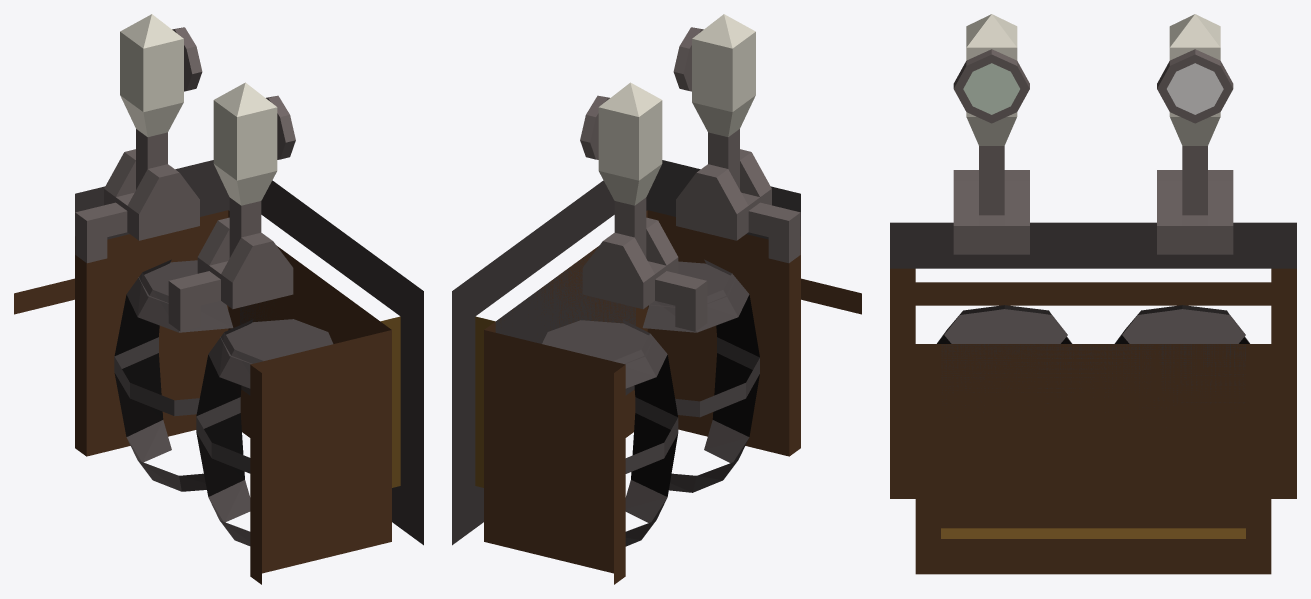
File: obj_bar_pumps_1_0.obj
3 renders of one model, left to right at view 1: azimuth 30°, elevation 25°; view 2: azimuth 150°, elevation 25°; view 3: azimuth 270°, elevation 25°, orthographic. The views are drawn at different scales.
Size of the model in its own units: 0.6875 by 1.36 by 1.
